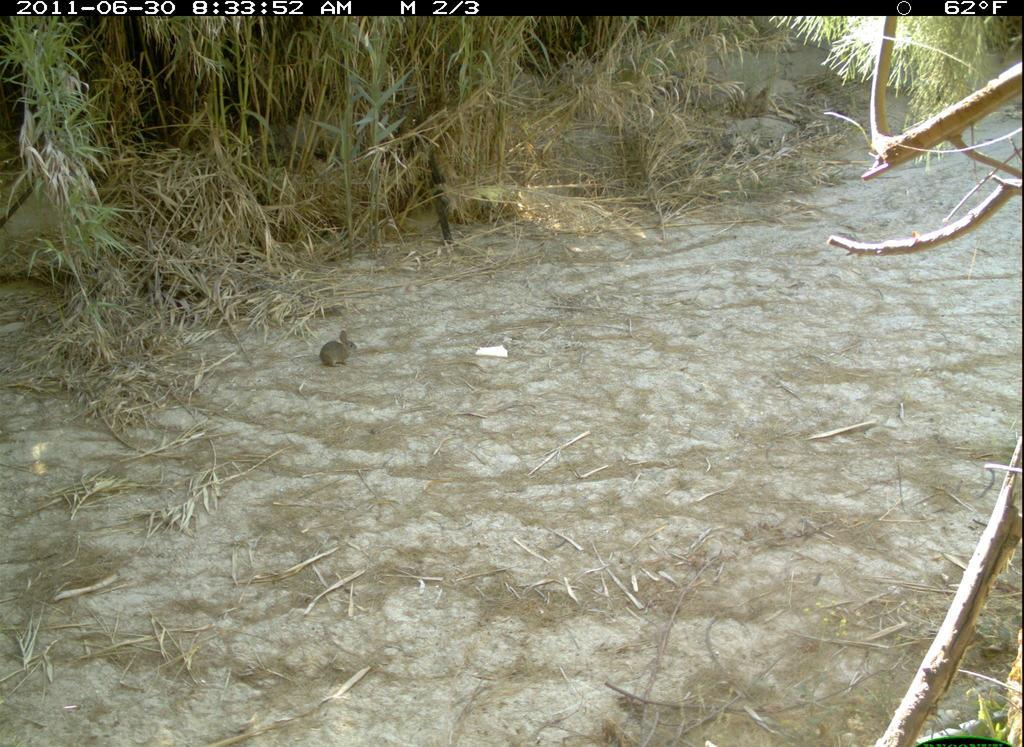rabbit: (318, 326, 363, 369)
